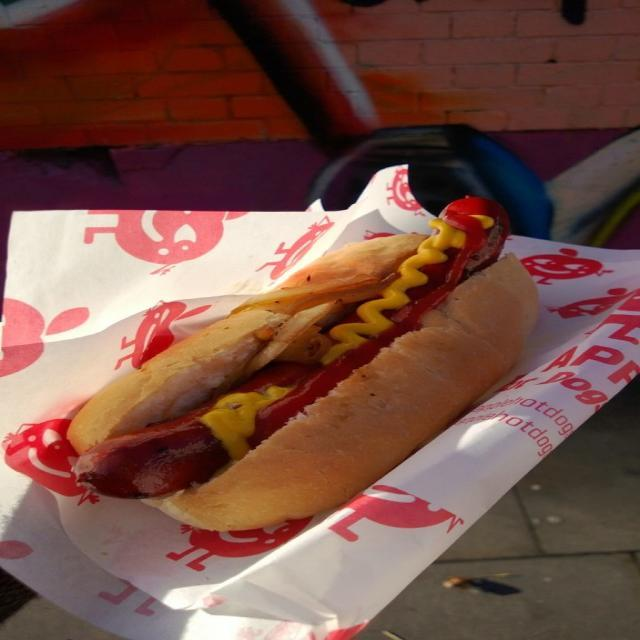Hot dog: (59, 193, 553, 540)
